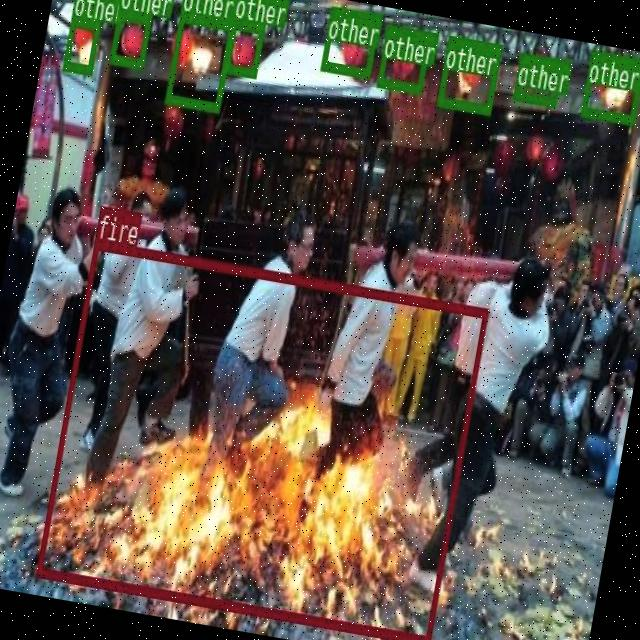fire: (35, 237, 488, 640)
